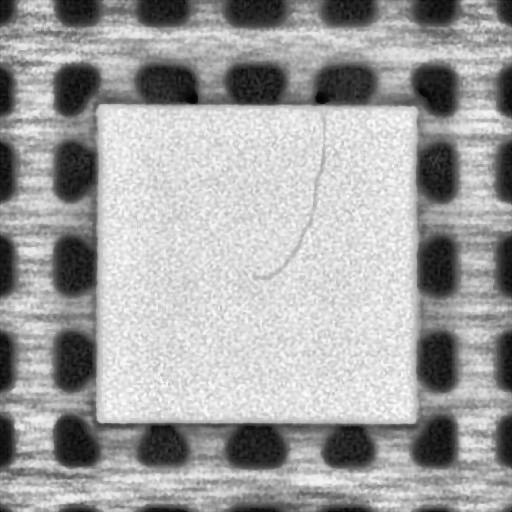DIE_CRACK: (254, 112, 326, 281)
